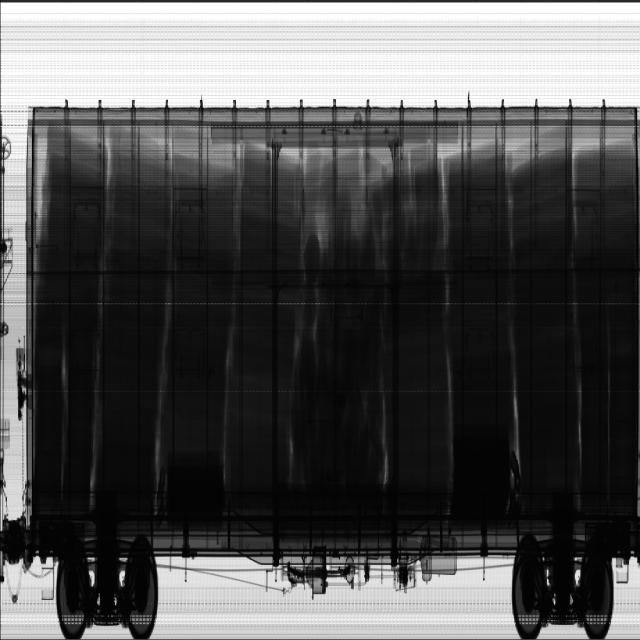fabrics: (289, 166, 443, 493)
